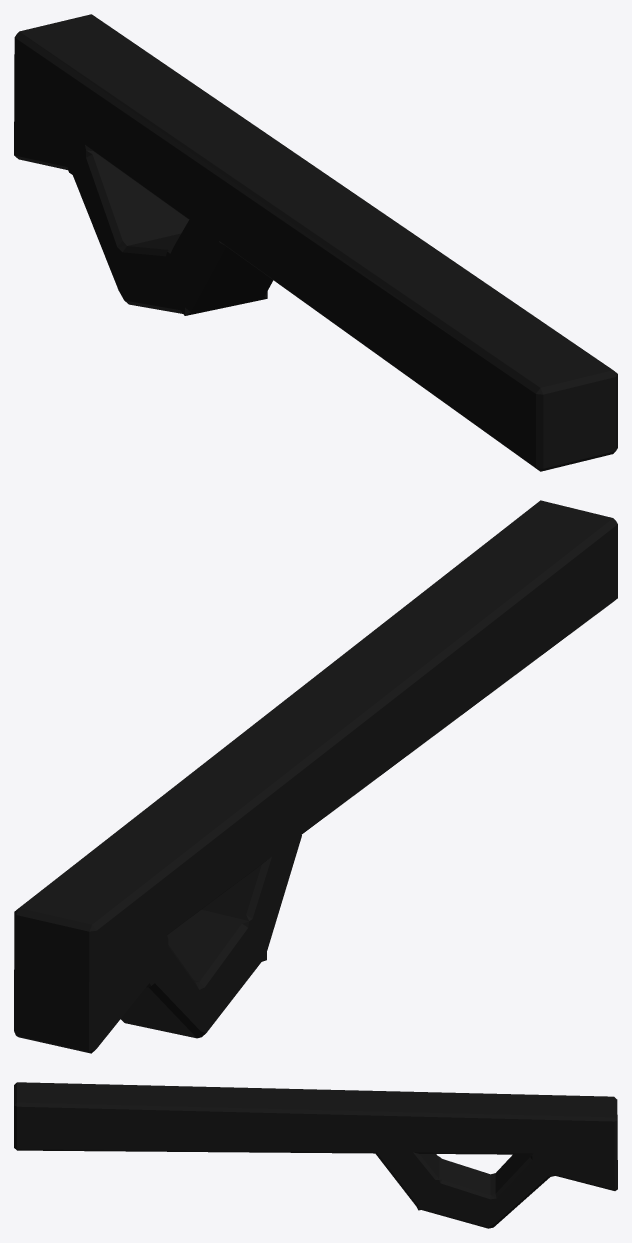
The model's file is gun.fbx.
The picture shows the model from 3 angles, top to bottom: view 1: azimuth 30°, elevation 25°; view 2: azimuth 150°, elevation 25°; view 3: azimuth 270°, elevation 25°; orthographic projection. The views are drawn at different scales.
Parts seen in each view (by area): view 1: Gun; view 2: Gun; view 3: Gun.
Part boxes in pixels (x1=…): Gun: x1=14, y1=14, x2=617, y2=471; Gun: x1=14, y1=500, x2=617, y2=1053; Gun: x1=14, y1=1082, x2=617, y2=1228.
Bounding box in the file's own units: 0.2776 × 0.7115 × 3.09.
Materials: 1 (1 with a texture image).
